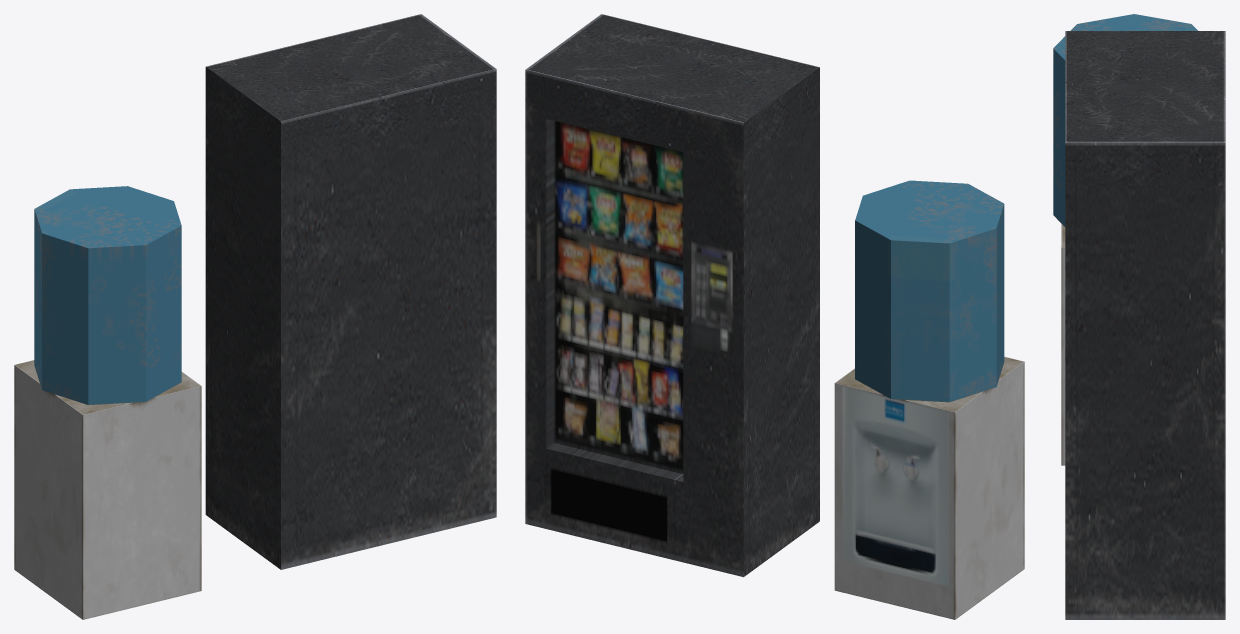
Rendered from water cooler.fbx.
3 views of the same model, side by side, from view 1: azimuth 30°, elevation 25°; view 2: azimuth 150°, elevation 25°; view 3: azimuth 270°, elevation 25° (orthographic). The views are drawn at different scales.
Parts seen in each view (by area): view 1: Vending Machine, Water Cooler; view 2: Vending Machine, Water Cooler; view 3: Vending Machine, Water Cooler.
Part boxes in pixels (x1,y1,x2,y2): Vending Machine: (205, 14, 496, 569); Water Cooler: (14, 186, 201, 619); Vending Machine: (525, 14, 819, 577); Water Cooler: (834, 180, 1024, 619); Vending Machine: (1065, 31, 1225, 619); Water Cooler: (1053, 14, 1197, 465).
Bounding box in the file's own units: 265 × 268 × 87.98.
Materials: 2 (2 with a texture image).
